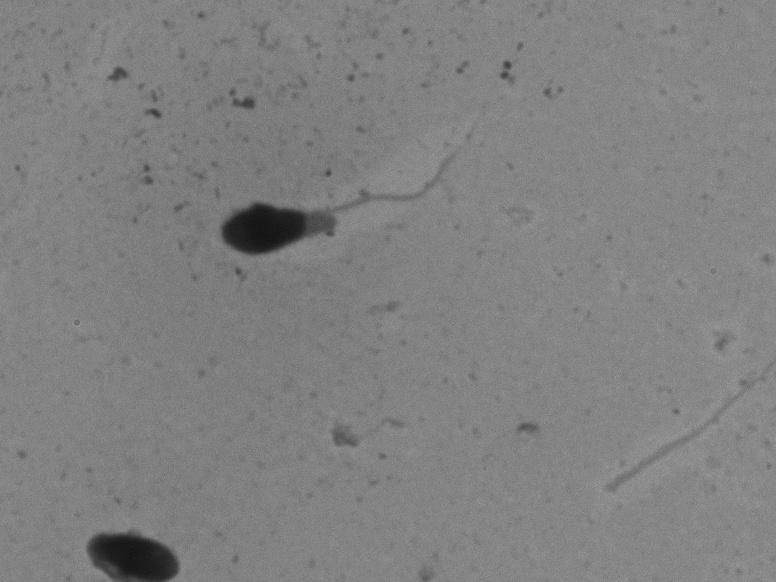Abnormal: (188, 90, 498, 286)
